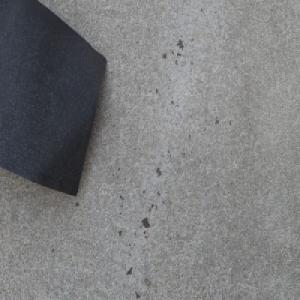PaintChip: (0, 0, 107, 197)
